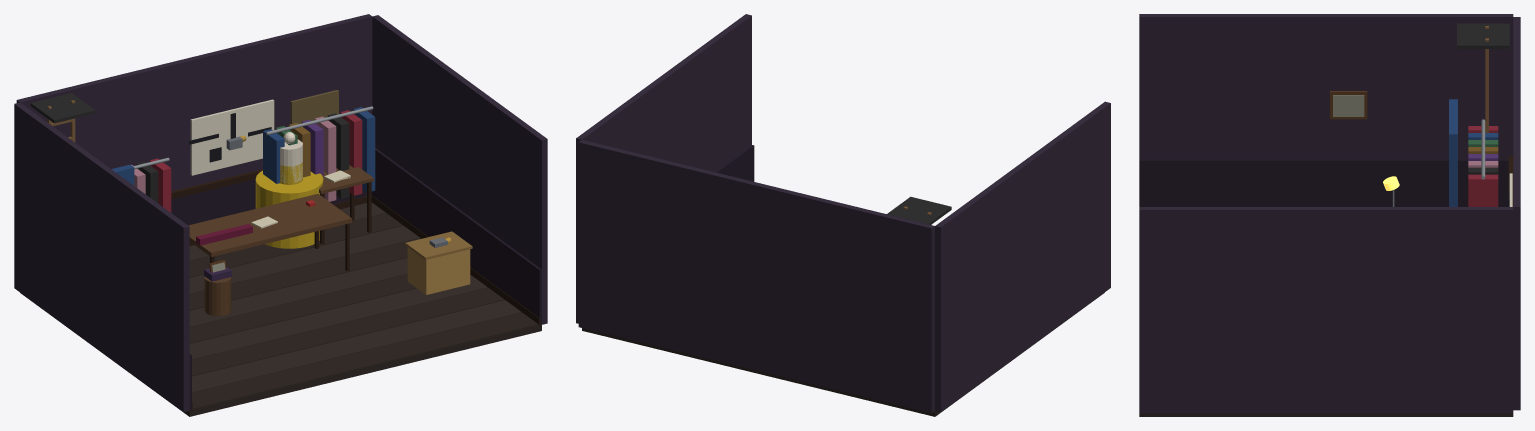
File: wardrobe.glb
3 views of the same model, side by side, from view 1: azimuth 30°, elevation 25°; view 2: azimuth 150°, elevation 25°; view 3: azimuth 270°, elevation 25° (orthographic). The views are drawn at different scales.
Parts seen in each view (by area): view 1: WallLeft, WallBack, WallRight, BandRight, Plank0, Plank1, Plank2, CutTop, Plank3, ShadowPanel, Plank4, Plank5 (+26 smaller); view 2: WallBack, WallLeft, WallRight, Floor, Hatch, BandRight; view 3: WallRight, WallLeft, BandLeft, WallBack, Floor, Hatch, Cost0_7, CostumeBlind, P_h_christmas_photoi, P_h_christmas_photo.
Part boxes in pixels (x1,y1,x2,y2): WallLeft: [14, 102, 189, 411]; WallBack: [16, 14, 372, 191]; WallRight: [372, 15, 547, 324]; BandRight: [371, 148, 541, 324]; Plank0: [192, 312, 538, 409]; Plank1: [192, 300, 521, 392]; Plank2: [192, 287, 504, 376]; CutTop: [188, 194, 351, 256]; Plank3: [189, 275, 487, 359]; ShadowPanel: [190, 99, 274, 175]; Plank4: [189, 274, 470, 343]; Plank5: [189, 258, 407, 327]; WallBack: [578, 140, 934, 413]; WallLeft: [935, 101, 1110, 411]; WallRight: [576, 14, 751, 323]; Floor: [582, 292, 1104, 416]; Hatch: [887, 196, 951, 224]; BandRight: [714, 145, 754, 181]; WallRight: [1139, 207, 1513, 413]; WallLeft: [1139, 14, 1513, 159]; BandLeft: [1139, 159, 1508, 206]; WallBack: [1513, 17, 1520, 410]; Floor: [1139, 413, 1513, 416]; Hatch: [1457, 23, 1509, 48]; Cost0_7: [1468, 174, 1498, 206]; CostumeBlind: [1449, 99, 1457, 206]; P_h_christmas_photoi: [1333, 95, 1364, 116]; P_h_christmas_photo: [1330, 91, 1367, 119].
Size of the model in its own units: 6.2 by 3.1 by 5.1.
